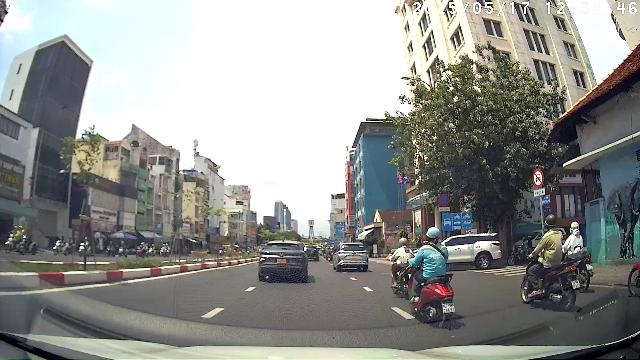103a-cam-oto: (532, 169, 544, 188)
